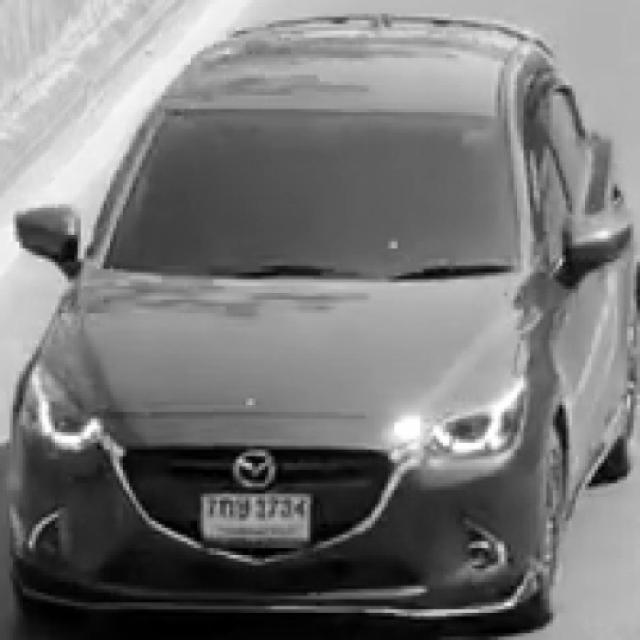plate: (200, 492, 310, 541)
